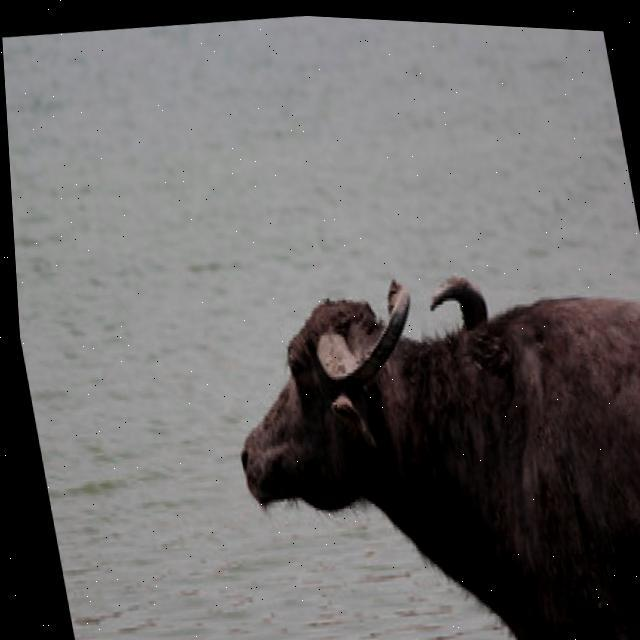Buffalo: (205, 246, 640, 640)
